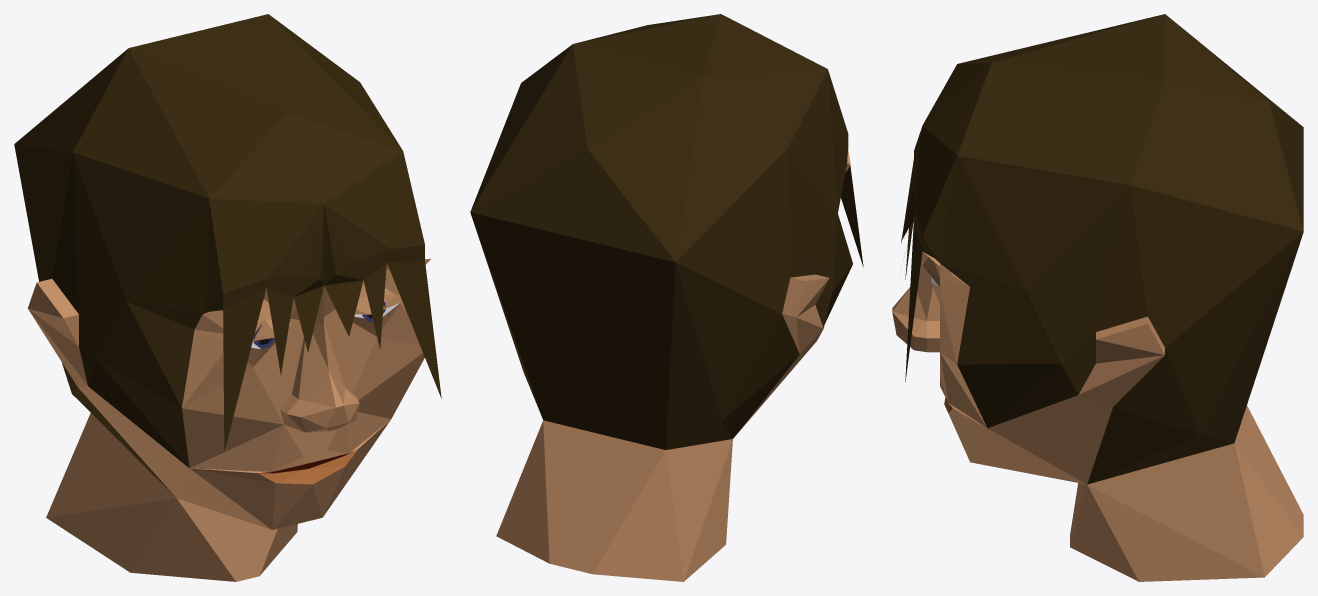
The model's file is model_115_idk_head.obj.
The picture shows the model from 3 angles, left to right: view 1: azimuth 30°, elevation 25°; view 2: azimuth 150°, elevation 25°; view 3: azimuth 270°, elevation 25°; orthographic projection. The views are drawn at different scales.
Visible parts, largest first — view 1: 115; view 2: 115; view 3: 115.
Part boxes in pixels (x1=…): 115: x1=14, y1=14, x2=441, y2=581; 115: x1=470, y1=14, x2=863, y2=581; 115: x1=892, y1=14, x2=1303, y2=581.
Size of the model in its own units: 88 by 126 by 95.
